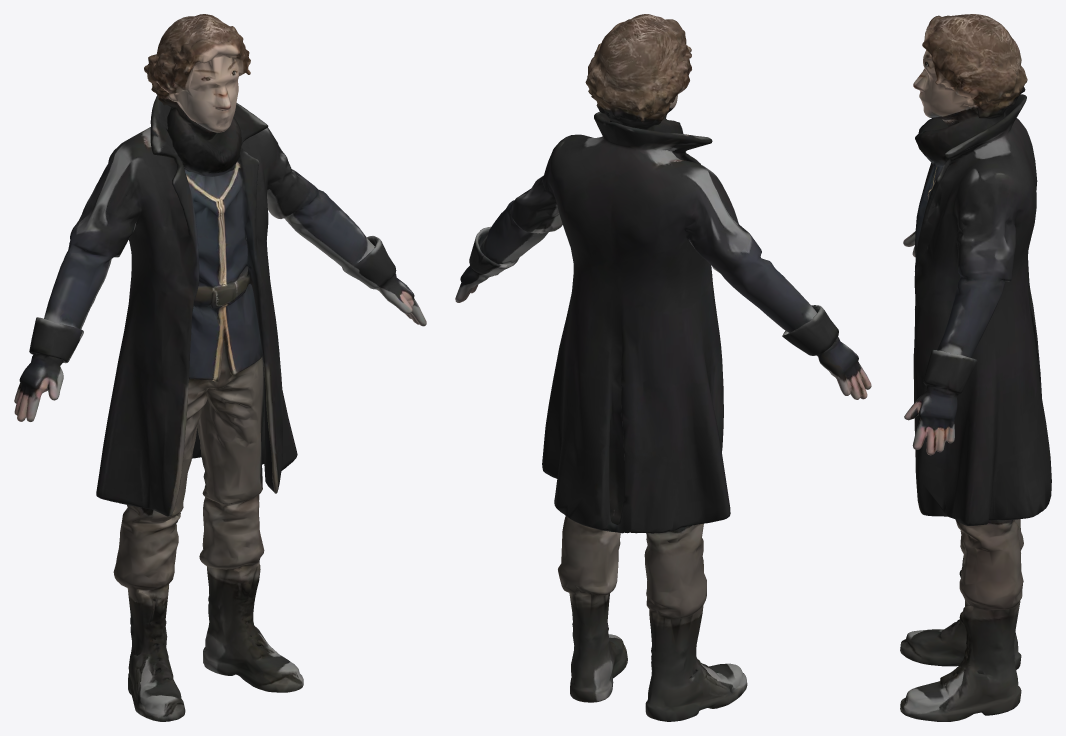
Rendered from cave.glb.
3 views of the same model, side by side, from view 1: azimuth 30°, elevation 25°; view 2: azimuth 150°, elevation 25°; view 3: azimuth 270°, elevation 25° (orthographic).
Parts seen in each view (by area): view 1: tripo_node_4e2da899-cc37-4d3c-ad38-a1e5f13e8de2; view 2: tripo_node_4e2da899-cc37-4d3c-ad38-a1e5f13e8de2; view 3: tripo_node_4e2da899-cc37-4d3c-ad38-a1e5f13e8de2.
Boxes of the visible parts, x1,y1,x2,y2 form: tripo_node_4e2da899-cc37-4d3c-ad38-a1e5f13e8de2: (14,14,426,721); tripo_node_4e2da899-cc37-4d3c-ad38-a1e5f13e8de2: (455,14,871,721); tripo_node_4e2da899-cc37-4d3c-ad38-a1e5f13e8de2: (900,14,1051,721).
Size of the model in its own units: 0.6333 by 0.9995 by 0.2051.
Materials: 1 (1 with a texture image).
